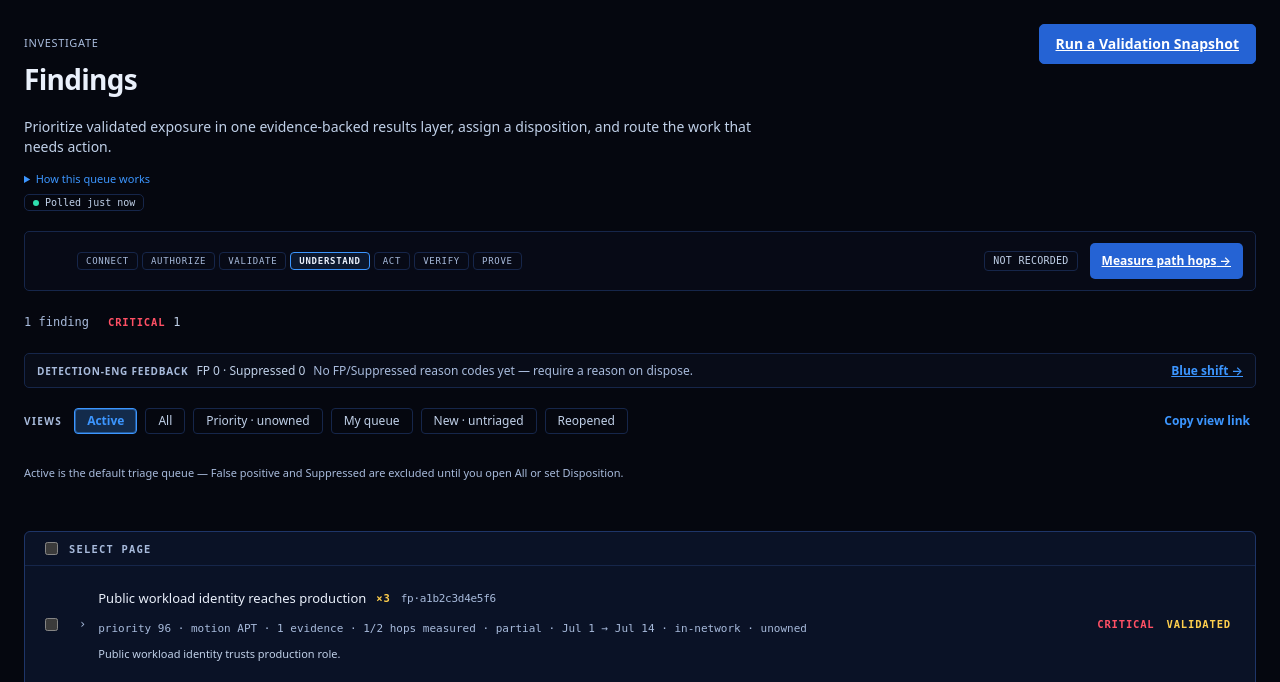
Test: FindingsWorkbench v2 › reveals governed accepted-risk fields in the bulk workflow
This screenshot has width=1280, height=682.
Click the checkbox named "Select Public workload identity reaches production" at {"x": 52, "y": 624}, box [45,618,58,631]
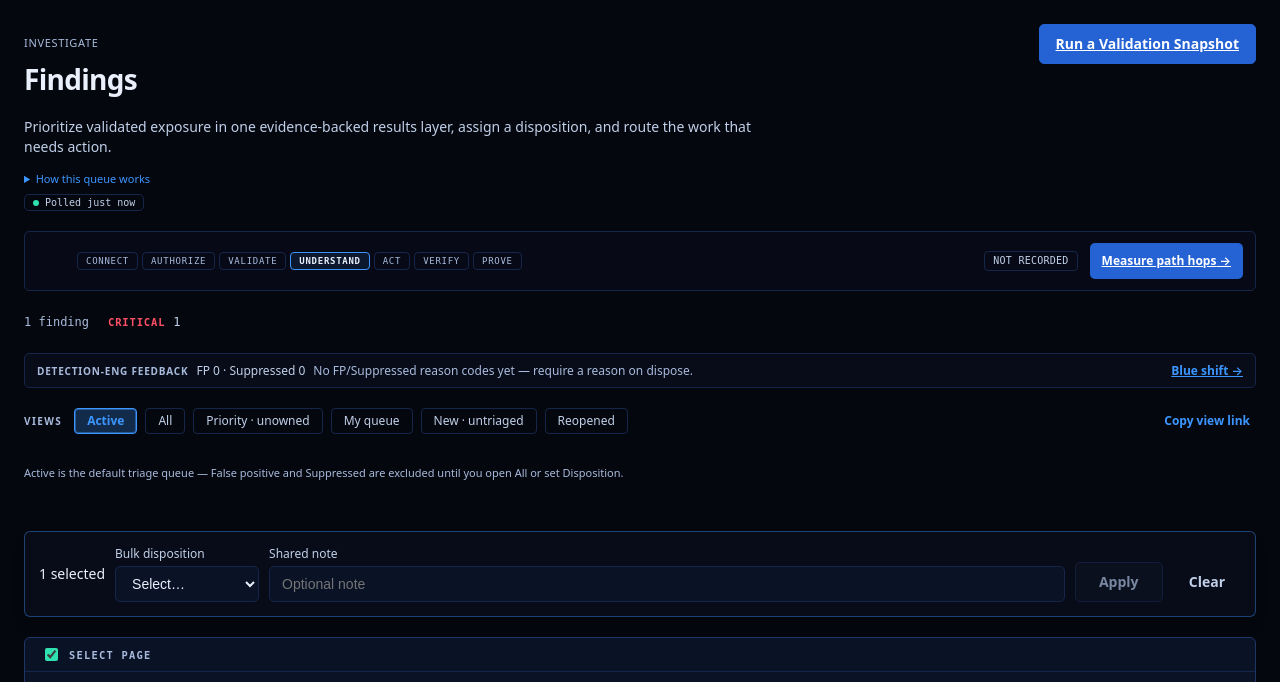
Result: the text "1 selected" is shown at [39,564,105,584]
Select "Accepted risk" in the dropdown labelled "Bulk disposition" at {"x": 187, "y": 584}, box [115,566,259,602]
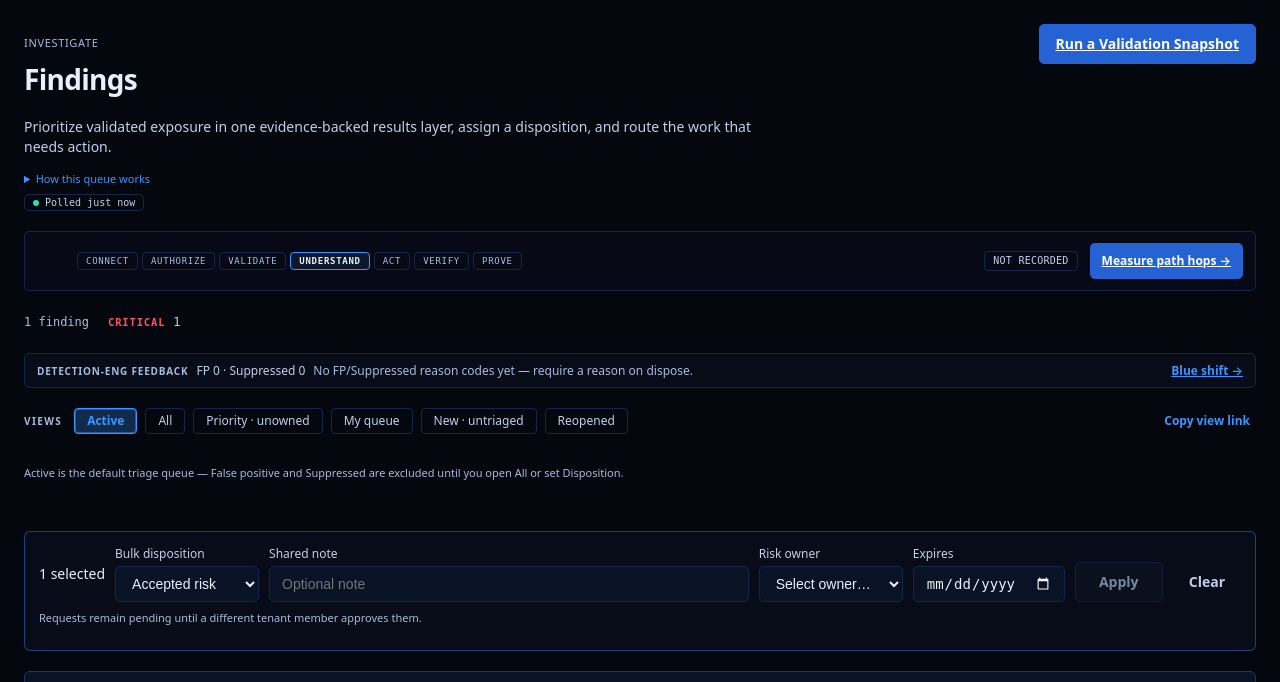
Result: the dropdown labelled "Risk owner" is shown at [759,566,903,602]
Result: the date field labelled "Expires" is shown at [913,566,1065,602]
Result: the text "Requests remain pending until a different tenant member approves them." is shown at [39,610,422,625]
Note: P06-3: Escalated/Acknowledged also expose optional queue owner (not risk-only).
Select "Escalated" in the dropdown labelled "Bulk disposition" at {"x": 187, "y": 584}, box [115,566,259,602]
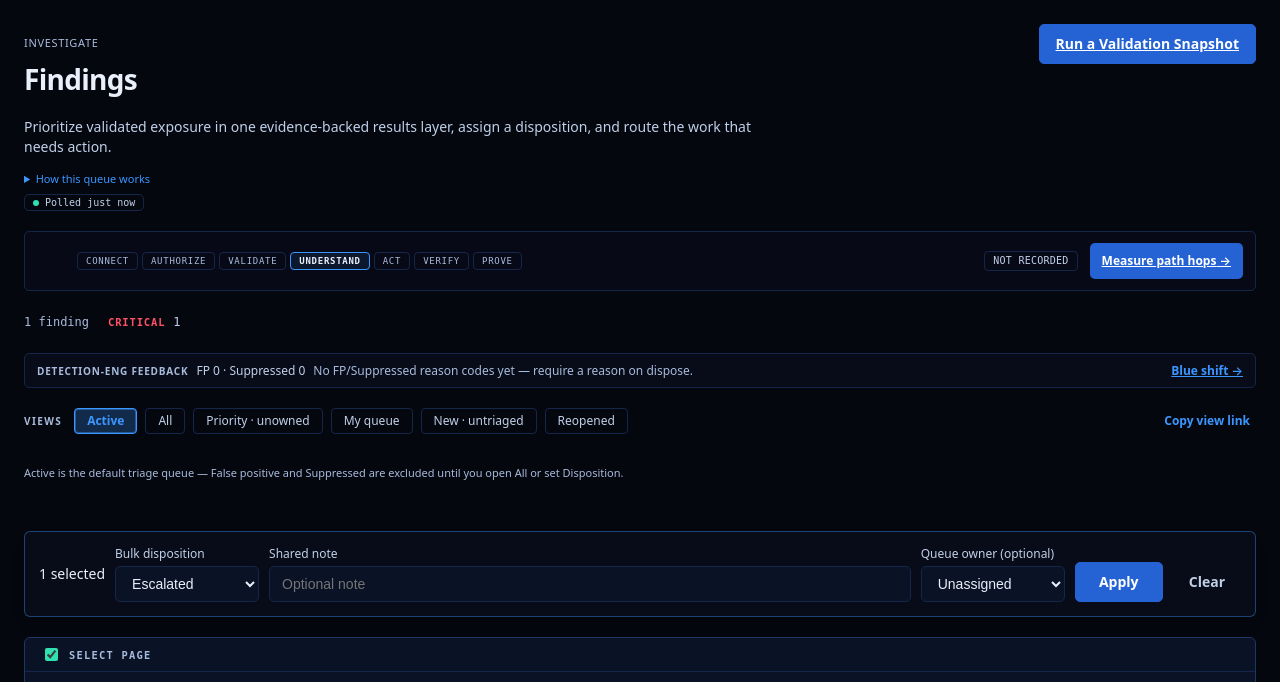
Result: the dropdown labelled "Queue owner (optional)" is shown at [921,566,1065,602]
Result: the label labelled "Expires" is gone
